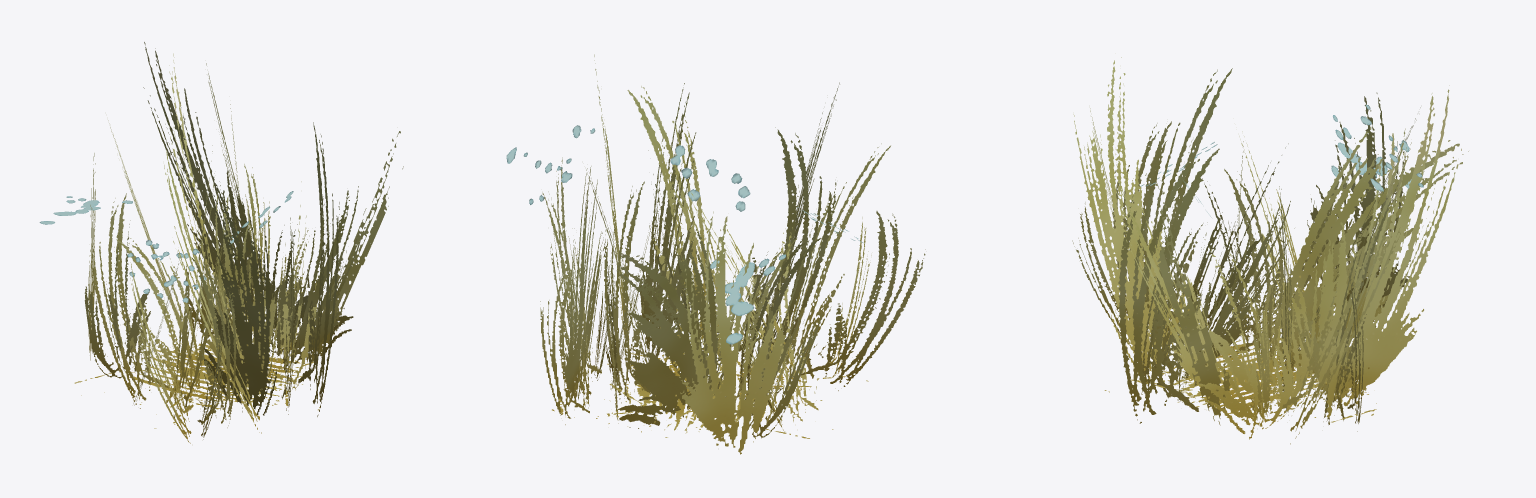
File: grass28.fbx
The picture shows the model from 3 angles, left to right: view 1: azimuth 30°, elevation 25°; view 2: azimuth 150°, elevation 25°; view 3: azimuth 270°, elevation 25°; orthographic projection. The views are drawn at different scales.
Visible parts, largest first — view 1: Glowing Flower 4_BAKED; view 2: Glowing Flower 4_BAKED; view 3: Glowing Flower 4_BAKED.
Part boxes in pixels (x1,y1,x2,y2): Glowing Flower 4_BAKED: [39, 42, 403, 443]; Glowing Flower 4_BAKED: [506, 54, 925, 454]; Glowing Flower 4_BAKED: [1072, 57, 1468, 444].
Size of the model in its own units: 50.18 by 49.25 by 41.15.
